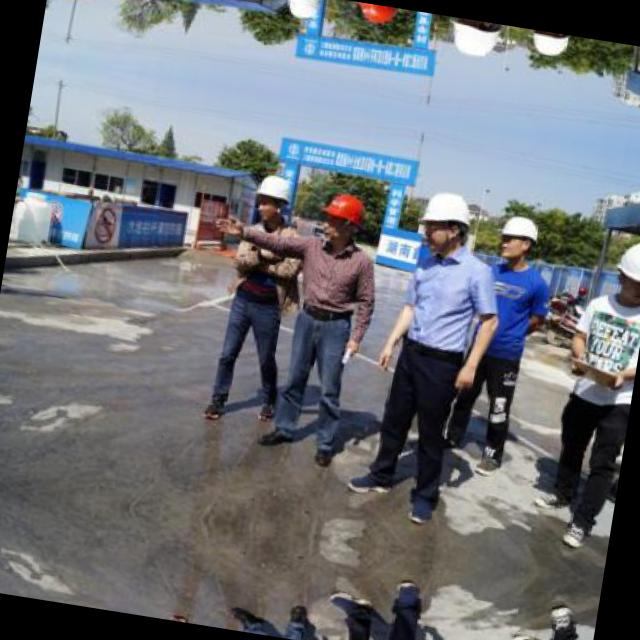helmet: (410, 187, 479, 256), (308, 188, 367, 248), (440, 16, 507, 62), (494, 211, 544, 264), (608, 231, 640, 310), (250, 172, 292, 222), (526, 29, 574, 62), (342, 0, 398, 28), (280, 0, 321, 23)
